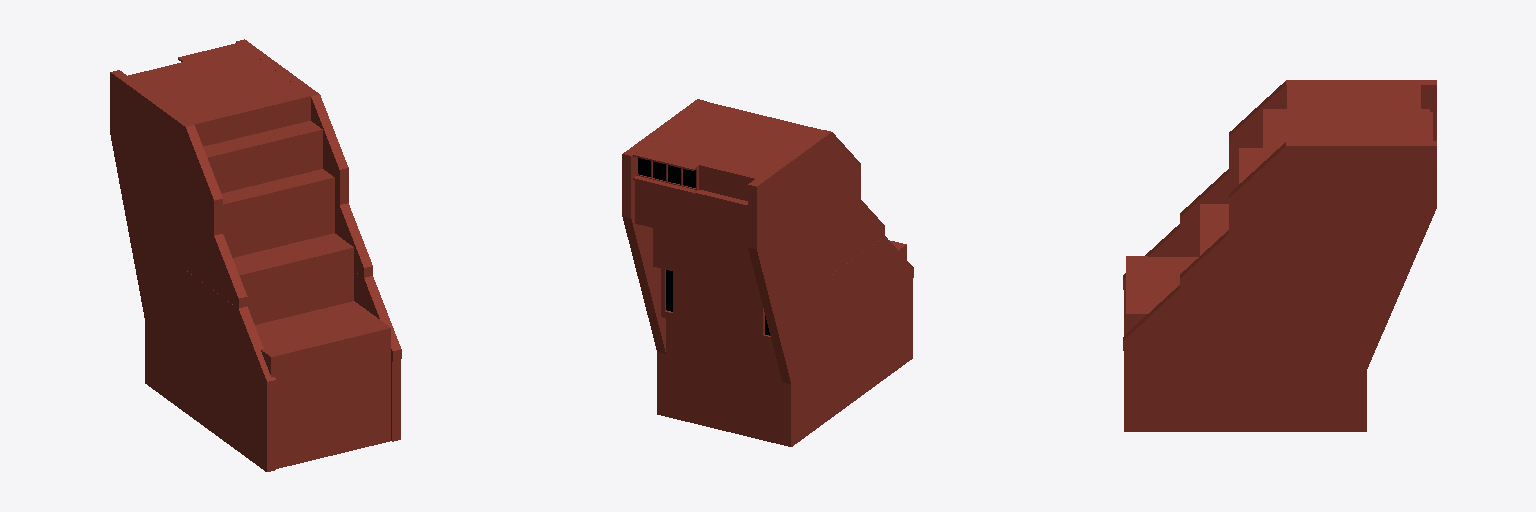
Rendered from Assembly01.obj.
The picture shows the model from 3 angles: view 1: azimuth 30°, elevation 25°; view 2: azimuth 150°, elevation 25°; view 3: azimuth 270°, elevation 25°; orthographic projection.
Visible parts, largest first — view 1: BasicBuildingBlock10x5.033_Cube.619; view 2: BasicBuildingBlock10x5.033_Cube.619; view 3: BasicBuildingBlock10x5.033_Cube.619.
Part boxes in pixels (left/top/right/bottom): BasicBuildingBlock10x5.033_Cube.619: left=110, top=39, right=401, bottom=471; BasicBuildingBlock10x5.033_Cube.619: left=622, top=99, right=913, bottom=446; BasicBuildingBlock10x5.033_Cube.619: left=1123, top=80, right=1436, bottom=431.
Size of the model in its own units: 11.21 by 22.78 by 22.63.